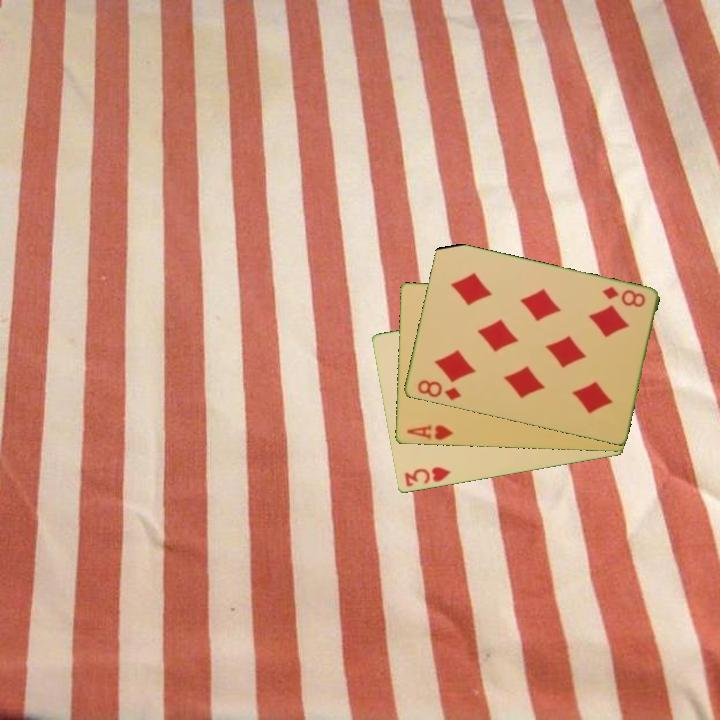3h: (401, 463, 453, 490)
8d: (413, 376, 464, 404), (598, 283, 648, 311)
Ah: (403, 421, 455, 443)
